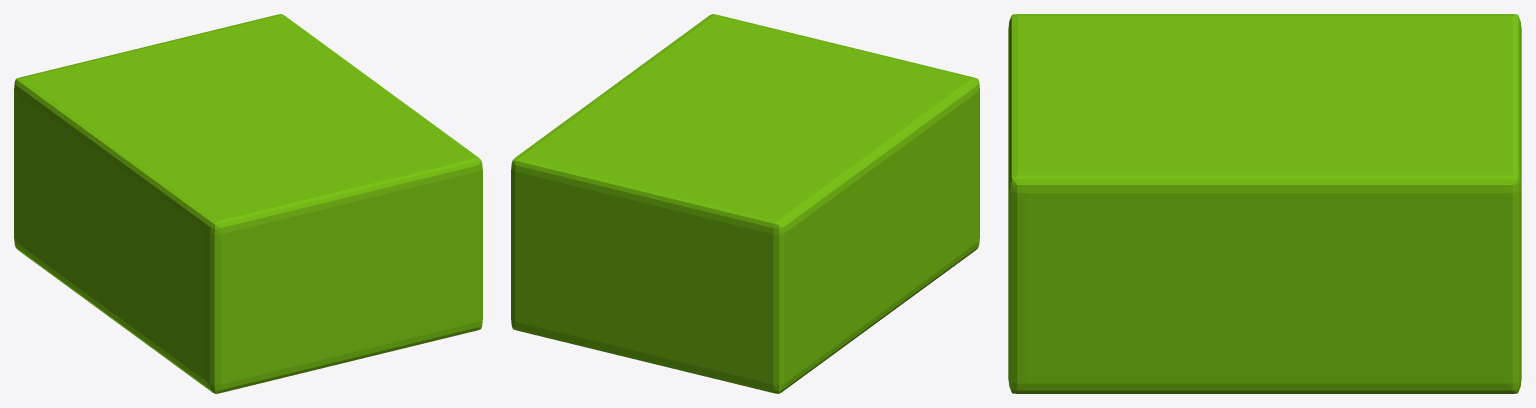
Rendered from torso_link_part_4.obj.
The picture shows the model from 3 angles, left to right: view 1: azimuth 30°, elevation 25°; view 2: azimuth 150°, elevation 25°; view 3: azimuth 270°, elevation 25°; orthographic projection. The views are drawn at different scales.
Bounding box in the file's own units: 0.1495 × 0.0895 × 0.1919.
